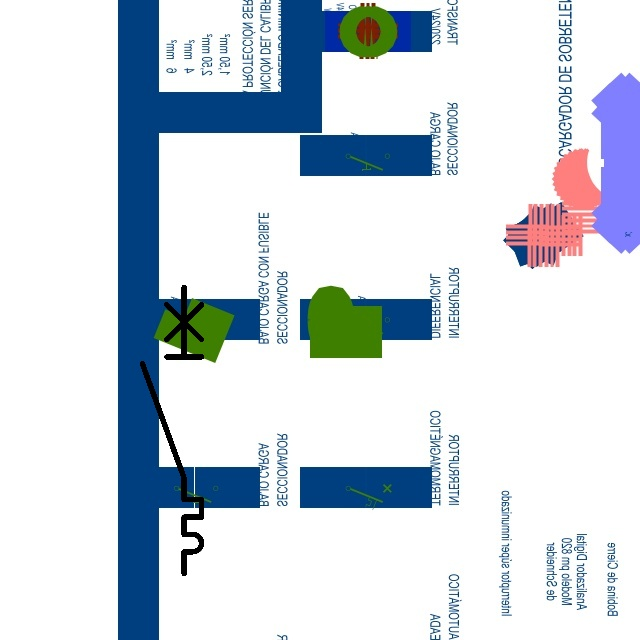interruptor_termomagnetico: (135, 280, 209, 581)
